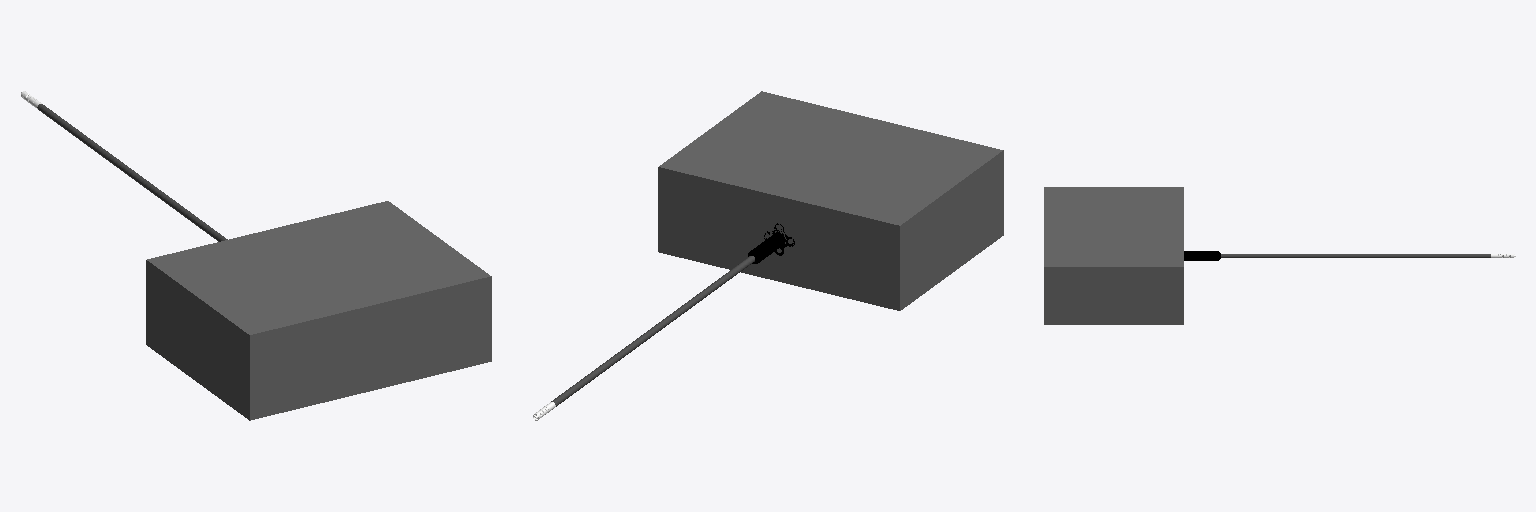
URDF robot description (micro_module):
<robot name="micro_module">
    <material name="black">
        <color rgba="0 0 0 1"/>
    </material>
    <material name="white">
        <color rgba="1 1 1 1"/>
    </material>
    <material name="grey">
        <color rgba="0.45 0.45 0.45 1"/>
    </material>
    <material name="steel">
        <color rgba="0.35 0.35 0.35 1"/>
    </material>

<!--Control Box-->
    <link name="control_box">
        <visual>
            <origin xyz="0 0 0" rpy="0 0 0"/>
            <geometry>
                <box size="0.154 0.114 0.052"/>
            </geometry>
            <material name="grey"/>
        </visual>
    </link>

    <joint name="link_control_box:tube_base" type="fixed">
        <parent link="control_box"/>
        <child link="tube_base"/>
        <origin rpy="0 0 0" xyz="0 0 0"/>
    </joint>

<!--Tube Base-->

    <link name="tube_base">
        <visual>
            <origin rpy="-1.570796 0 0" xyz="-0.004 0.057 0.004"/>
            <geometry>
                <mesh filename="package://ls_thesis/meshes/tube_base.stl" scale="0.001 0.001 0.001"/>
            </geometry>
            <material name="black"/>
        </visual>
    </link>

    <joint name="link_tube_base:steel_tube" type="fixed">
        <parent link="tube_base"/>
        <child link="steel_tube"/>
        <origin rpy="0 0 0" xyz="0 0 0"/>
    </joint>

<!--Steel Tube-->

    <link name="steel_tube">
        <visual>
            <origin rpy="1.570796 0 0" xyz="0 0.182 0"/>
            <geometry>
                <cylinder length="0.25" radius="0.002"/>
            </geometry>
            <material name="steel"/>
        </visual>
    </link>

    <joint name="link_steel_tube:proximal_base" type="fixed">
        <parent link="steel_tube"/>
        <child link="proximal_base"/>
        <origin rpy="0 0 0" xyz="0 0 0"/>
    </joint>

<!--Proximal Base-->

    <link name="proximal_base">
        <visual>
            <origin rpy="-0.78540 0 -1.570796" xyz="-0.00283 0.312 0"/>
            <geometry>
                <mesh filename="package://ls_thesis/meshes/proximal_base.stl" scale="0.001 0.001 0.001"/>
            </geometry>
            <material name="white"/>
        </visual>
    </link>

    <joint name="link_proximal_base:proximal_module_1" type="revolute">
        <parent link="proximal_base"/>
        <child link="proximal_module_1"/>
        <origin rpy="0 0 0" xyz="0 0 0"/>
        <axis xyz="0 0 1"/>
        <limit effort="1000.0" lower="0.0" upper="0.548" velocity="0.5"/>
    </joint>

<!--Proximal Modules-->

    <link name="proximal_module_1">
        <visual>
            <origin rpy="-0.78540 0 -1.570796" xyz="-0.00283 0.3134 0"/>
            <geometry>
                <mesh filename="package://ls_thesis/meshes/proximal_module.stl" scale="0.001 0.001 0.001"/>
            </geometry>
            <material name="white"/>
        </visual>
    </link>

    <joint name="link_proximal_module_1:proximal_module_2" type="revolute">
        <parent link="proximal_module_1"/>
        <child link="proximal_module_2"/>
        <origin rpy="0 0 0" xyz="0 0 0"/>
        <axis xyz="0 0 1"/>
        <limit effort="1000.0" lower="0.0" upper="0.548" velocity="0.5"/>
    </joint>

    <link name="proximal_module_2">
        <visual>
            <origin rpy="0.78540 0 -1.570796" xyz="0 0.3148 -0.00283"/>
            <geometry>
                <mesh filename="package://ls_thesis/meshes/proximal_module.stl" scale="0.001 0.001 0.001"/>
            </geometry>
            <material name="white"/>
        </visual>
    </link>

    <joint name="link_proximal_module_2:pd_adaptor_module" type="revolute">
        <parent link="proximal_module_2"/>
        <child link="pd_adaptor_module"/>
        <origin rpy="0 0 0" xyz="0 0 0"/>
        <axis xyz="0 0 1"/>
        <limit effort="1000.0" lower="0.0" upper="0.548" velocity="0.5"/>
    </joint>

<!--Proximal-Distal Adaptor-->

    <link name="pd_adaptor_module">
        <visual>
            <origin rpy="0 0 1.570796" xyz="0.002 0.3148 -0.002"/>
            <geometry>
                <mesh filename="package://ls_thesis/meshes/pd_adaptor_module.stl" scale="0.001 0.001 0.001"/>
            </geometry>
            <material name="white"/>
        </visual>
    </link>

    <joint name="link_pd_adaptor_module:distal_module_1" type="revolute">
        <parent link="pd_adaptor_module"/>
        <child link="distal_module_1"/>
        <origin rpy="0 0 0" xyz="0 0 0"/>
        <axis xyz="0 0 1"/>
        <limit effort="1000.0" lower="0.0" upper="0.548" velocity="0.5"/>
    </joint>

<!--Distal Modules-->

    <link name="distal_module_1">
        <visual>
            <origin rpy="1.570796 0 -1.570796" xyz="0.002 0.31982 -0.002"/>
            <geometry>
                <mesh filename="package://ls_thesis/meshes/distal_module.stl" scale="0.001 0.001 0.001"/>
            </geometry>
            <material name="white"/>
        </visual>
    </link>

    <joint name="link_distal_module_1:distal_module_2" type="revolute">
        <parent link="distal_module_1"/>
        <child link="distal_module_2"/>
        <origin rpy="0 0 0" xyz="0 0 0"/>
        <axis xyz="0 0 1"/>
        <limit effort="1000.0" lower="0.0" upper="0.548" velocity="0.5"/>
    </joint>

    <link name="distal_module_2">
        <visual>
            <origin rpy="0 0 -1.570796" xyz="-0.002 0.32271 -0.002"/>
            <geometry>
                <mesh filename="package://ls_thesis/meshes/distal_module.stl" scale="0.001 0.001 0.001"/>
            </geometry>
            <material name="white"/>
        </visual>
    </link>

    <joint name="link_distal_module_2:end_effector" type="revolute">
        <parent link="distal_module_2"/>
        <child link="end_effector"/>
        <origin rpy="0 0 0" xyz="0 0 0"/>
        <axis xyz="0 0 1"/>
        <limit effort="1000.0" lower="0.0" upper="0.548" velocity="0.5"/>
    </joint>

<!--End Effector-->

    <link name="end_effector">
        <visual>
            <origin rpy="0 0 -1.570796" xyz="-0.002 0.3256 -0.002"/>
            <geometry>
                <mesh filename="package://ls_thesis/meshes/end_effector.stl" scale="0.001 0.001 0.001"/>
            </geometry>
            <material name="white"/>
        </visual>
    </link>
</robot>

--- Facts derived from the render (not from the file) ---
The picture shows the robot from 3 angles, left to right: view 1: azimuth 30°, elevation 25°; view 2: azimuth 150°, elevation 25°; view 3: azimuth 270°, elevation 25°; orthographic projection.
Model micro_module with 10 links and 9 joints (6 revolute, 3 fixed), rooted at control_box, posed every joint at zero.
Visible links, largest first — view 1: control_box, steel_tube; view 2: control_box, steel_tube, tube_base; view 3: control_box, steel_tube.
Link boxes in pixels (x1,y1,x2,y2): control_box: (146, 201, 491, 420); steel_tube: (37, 104, 227, 241); control_box: (658, 91, 1003, 310); steel_tube: (551, 256, 754, 406); tube_base: (748, 223, 794, 263); control_box: (1044, 187, 1183, 324); steel_tube: (1221, 254, 1490, 257).
Size in the robot's own frame: 0.154 by 0.3841 by 0.052 metres.
8 mesh visuals loaded from 6 distinct referenced files (6 binary STL).
